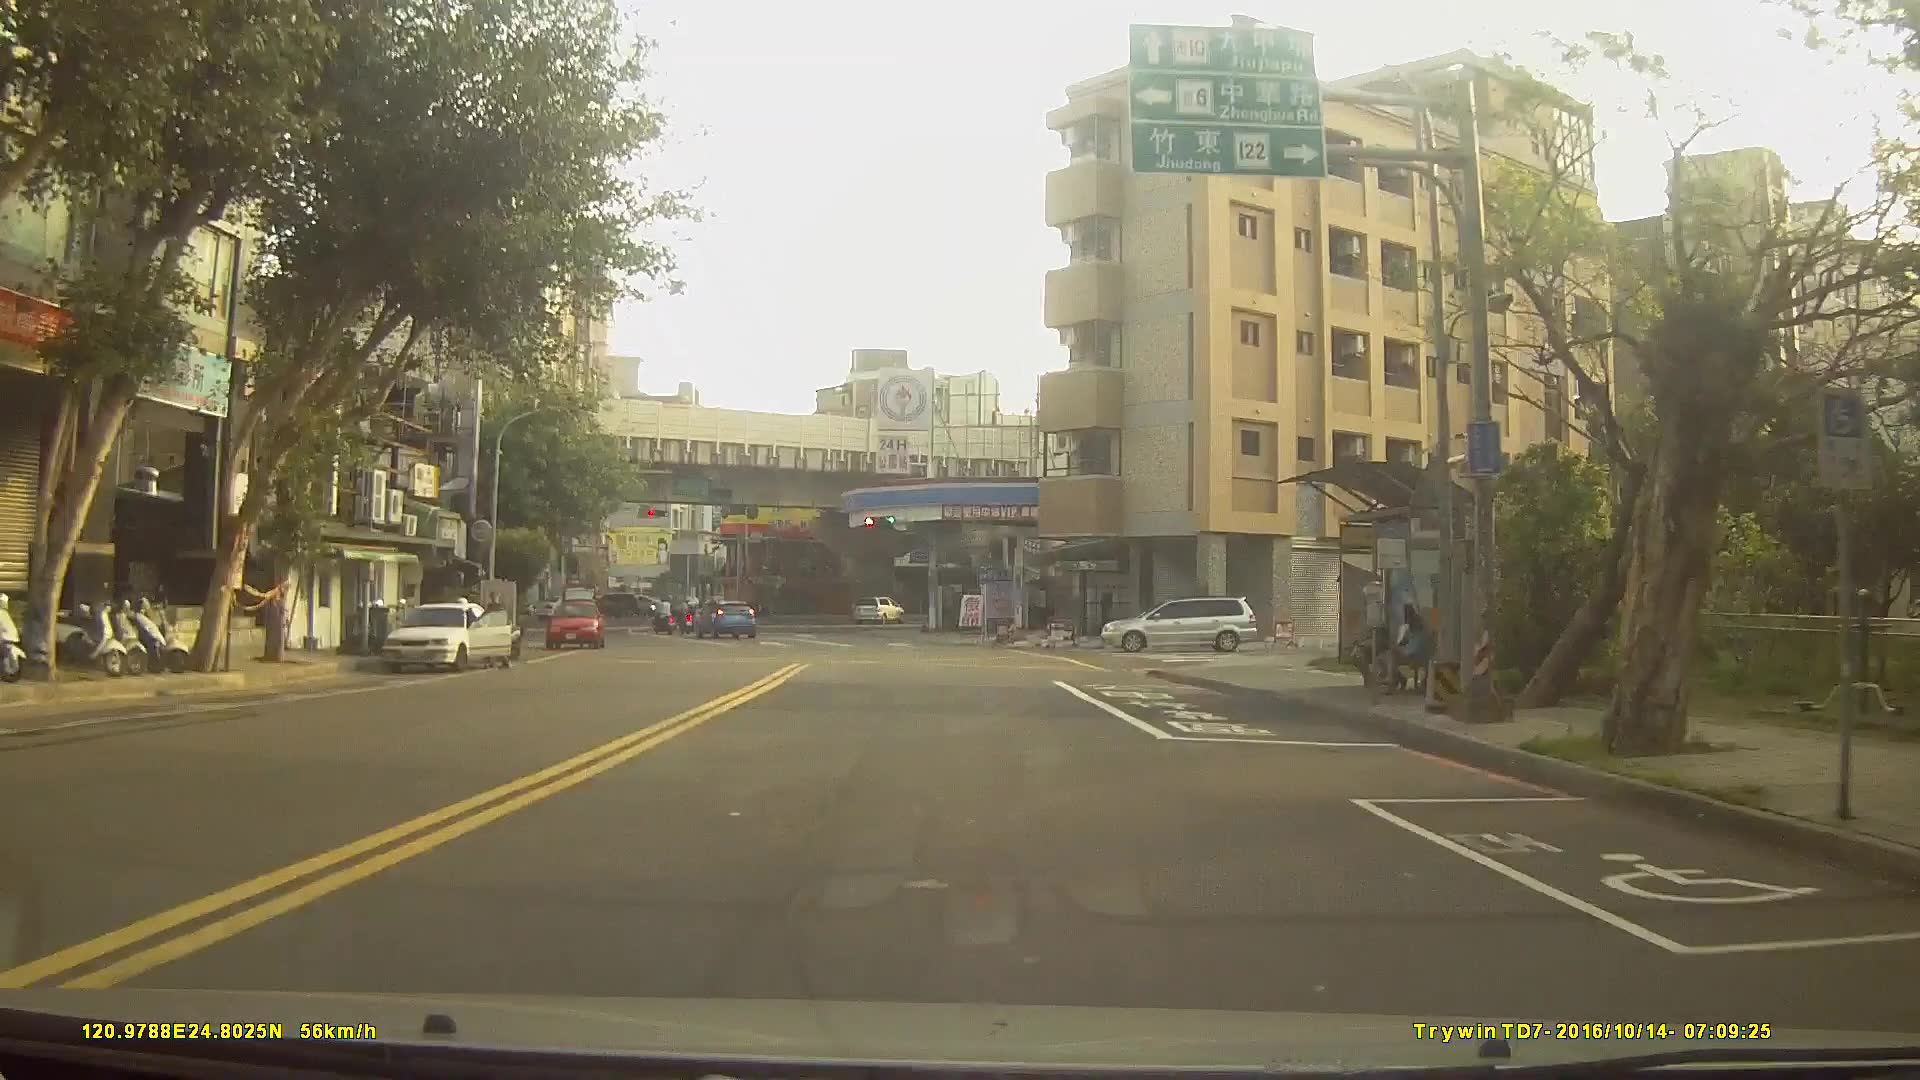pedestrian: (1388, 602, 1436, 694)
rider: (651, 594, 678, 638)
vehicle: (380, 596, 512, 673), (1100, 594, 1258, 652), (545, 596, 607, 648), (690, 595, 757, 638), (581, 589, 638, 619), (849, 595, 902, 624)
